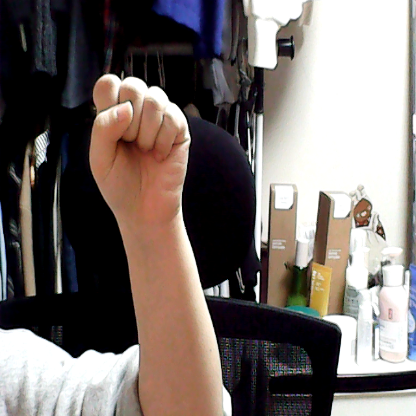Finger_0: (71, 55, 203, 244)
